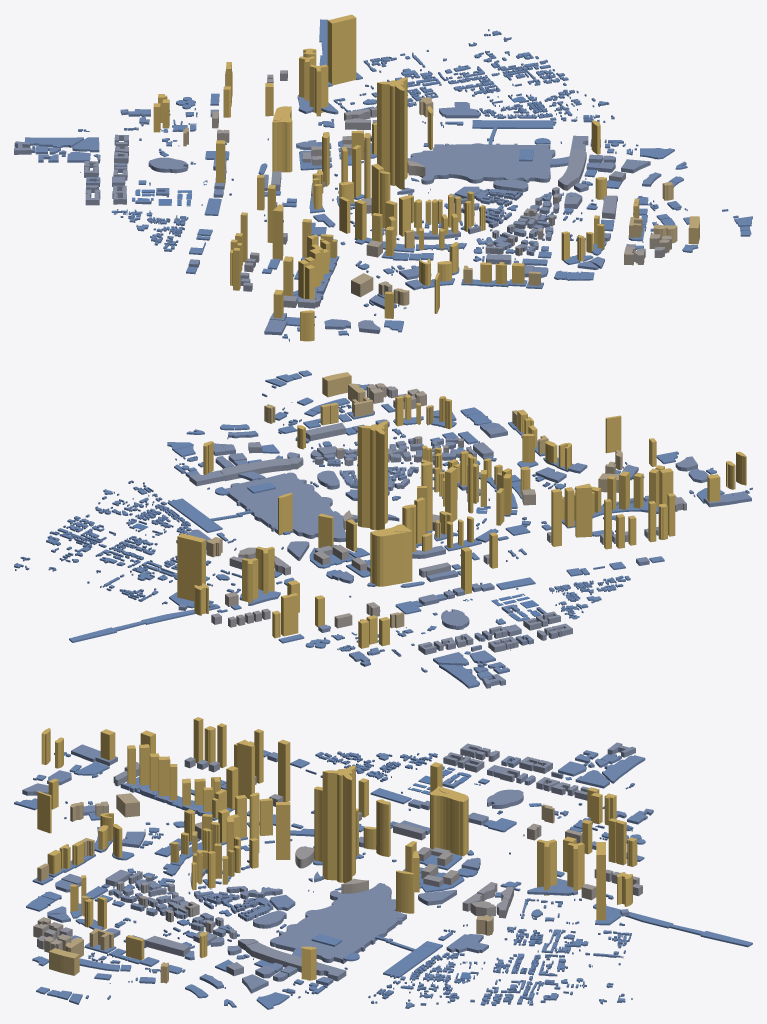
The model's file is buildings.glb.
The picture shows the model from 3 angles, top to bottom: view 1: azimuth 30°, elevation 25°; view 2: azimuth 150°, elevation 25°; view 3: azimuth 270°, elevation 25°; orthographic projection. The views are drawn at different scales.
Parts seen in each view (by area): view 1: buildings; view 2: buildings; view 3: buildings.
Part boxes in pixels (x1=…): buildings: x1=14, y1=14, x2=752, y2=341; buildings: x1=14, y1=370, x2=752, y2=688; buildings: x1=14, y1=717, x2=752, y2=1009.
Size of the model in its own units: 2746 by 546 by 3260.
